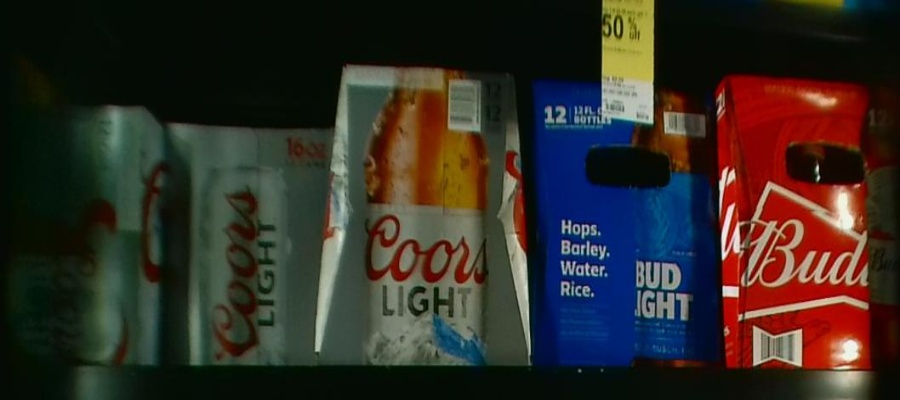bottle: (334, 62, 532, 370), (533, 78, 721, 368), (721, 74, 900, 371), (1, 102, 162, 366), (163, 114, 330, 357)
